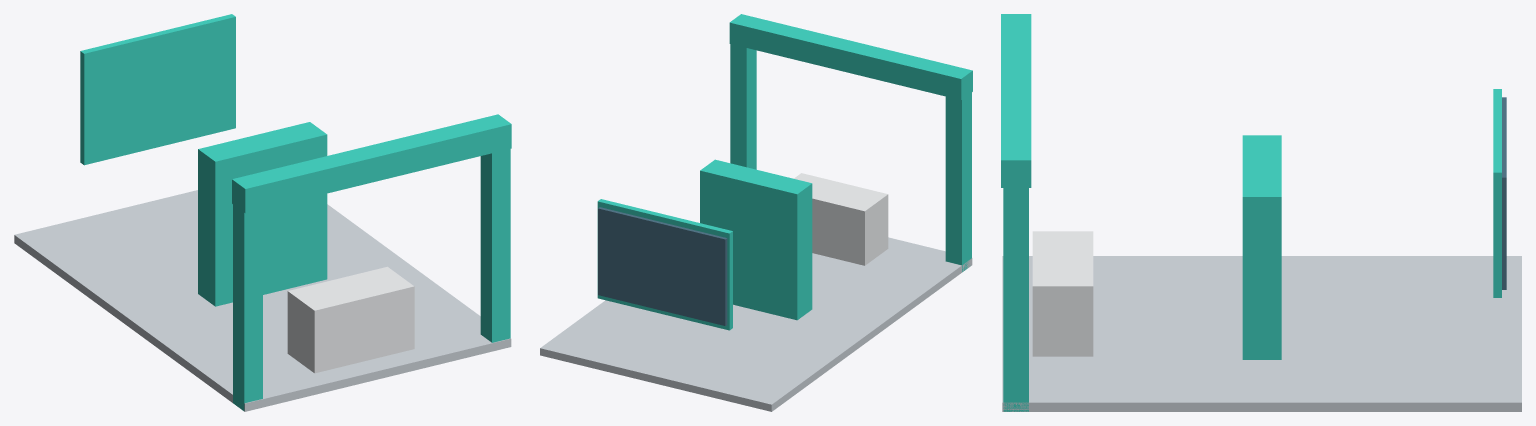
3 views of the same model, side by side, from view 1: azimuth 30°, elevation 25°; view 2: azimuth 150°, elevation 25°; view 3: azimuth 270°, elevation 25° (orthographic). The views are drawn at different scales.
Visible parts, largest first — view 1: Exhibition Booth Concept; view 2: Exhibition Booth Concept; view 3: Exhibition Booth Concept.
Boxes of the visible parts, bbox=[...] form: Exhibition Booth Concept: bbox=[14, 14, 511, 411]; Exhibition Booth Concept: bbox=[540, 14, 972, 411]; Exhibition Booth Concept: bbox=[1001, 14, 1521, 411].
Size of the model in its own units: 4 by 3.2 by 6.02.
